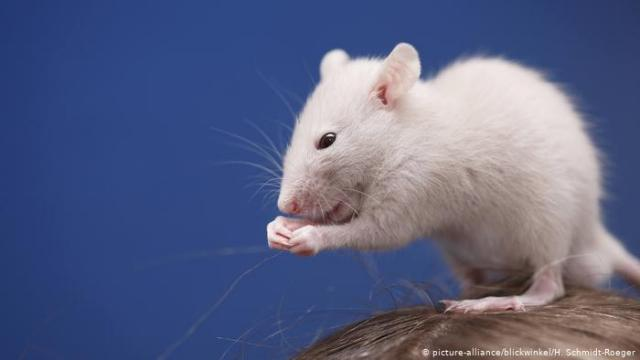rat: (226, 28, 498, 272)
